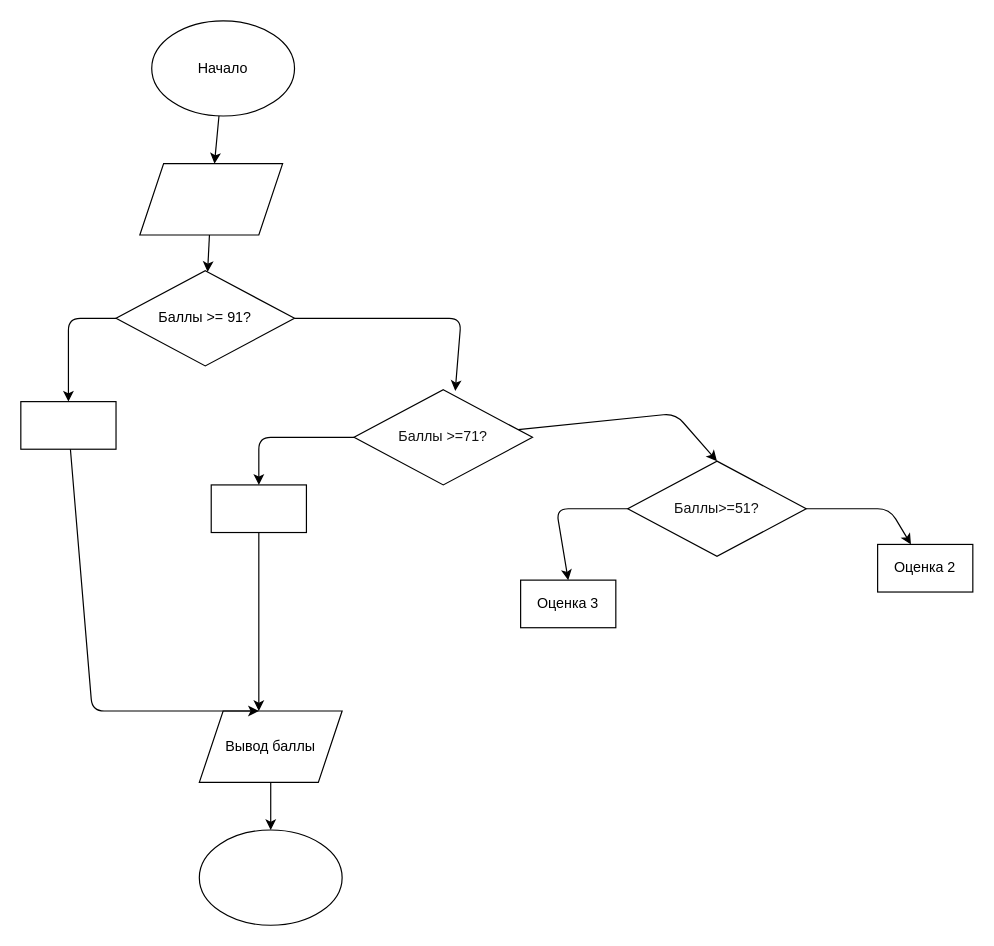
Image size: 994x946. Some labels were removed from this diagram. Each missing label, with the box of its shape:
Ввод: баллы: (139, 162, 283, 235)
Конец: (198, 829, 342, 925)
Оценка 4: (210, 484, 306, 533)
Оценка 5: (20, 400, 116, 449)
